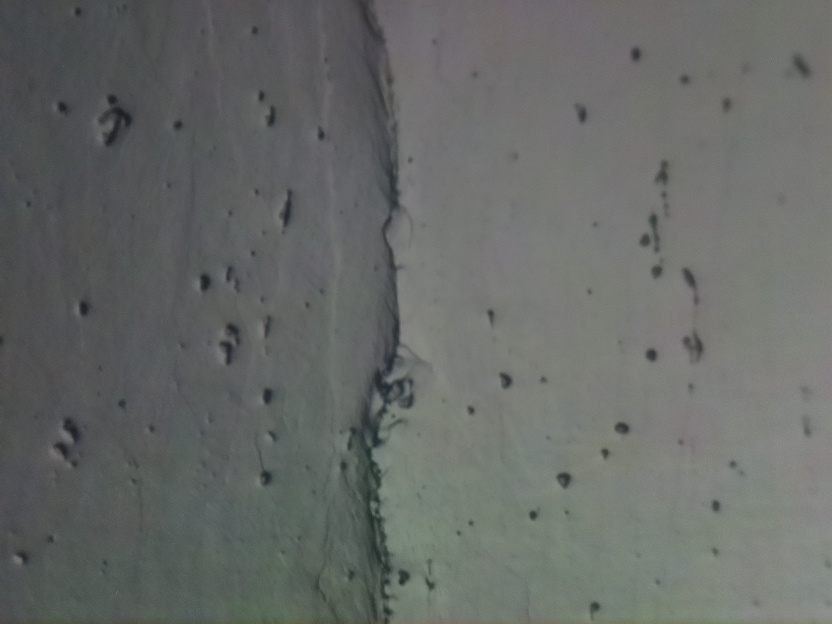crack: (356, 0, 406, 622)
